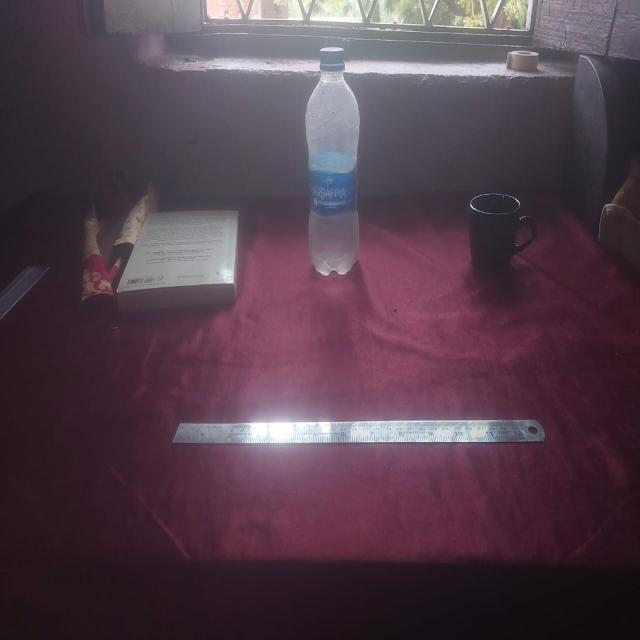Book: (119, 191, 241, 307)
Bottle: (302, 45, 364, 276)
Cup: (458, 191, 541, 278)
scale: (170, 403, 554, 454)
